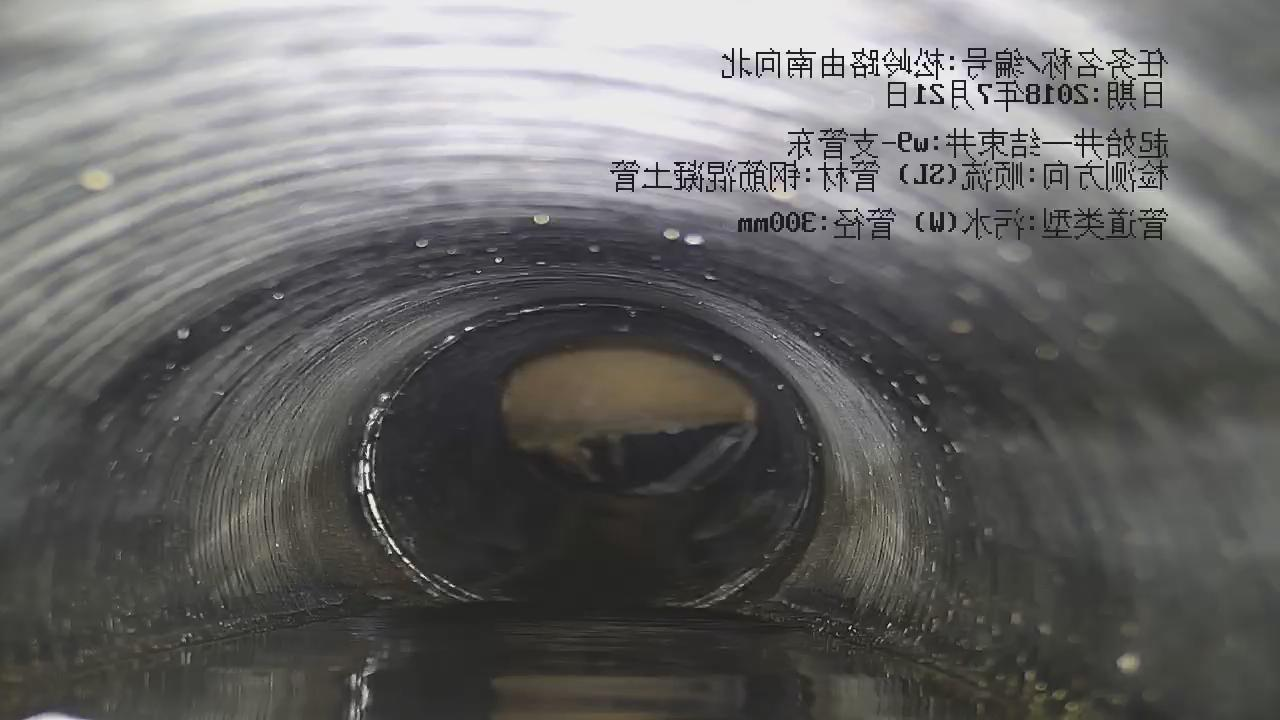YWCR: (502, 347, 758, 472)
